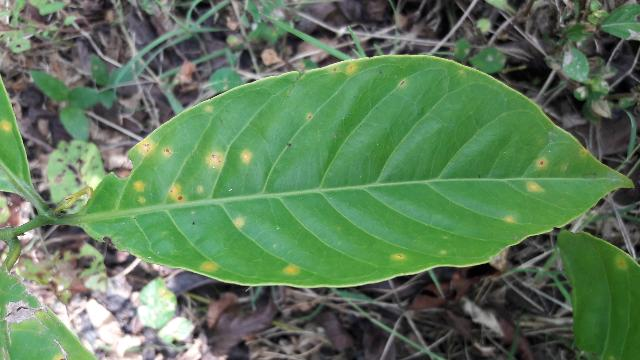rust_level_2: (78, 53, 633, 287)
